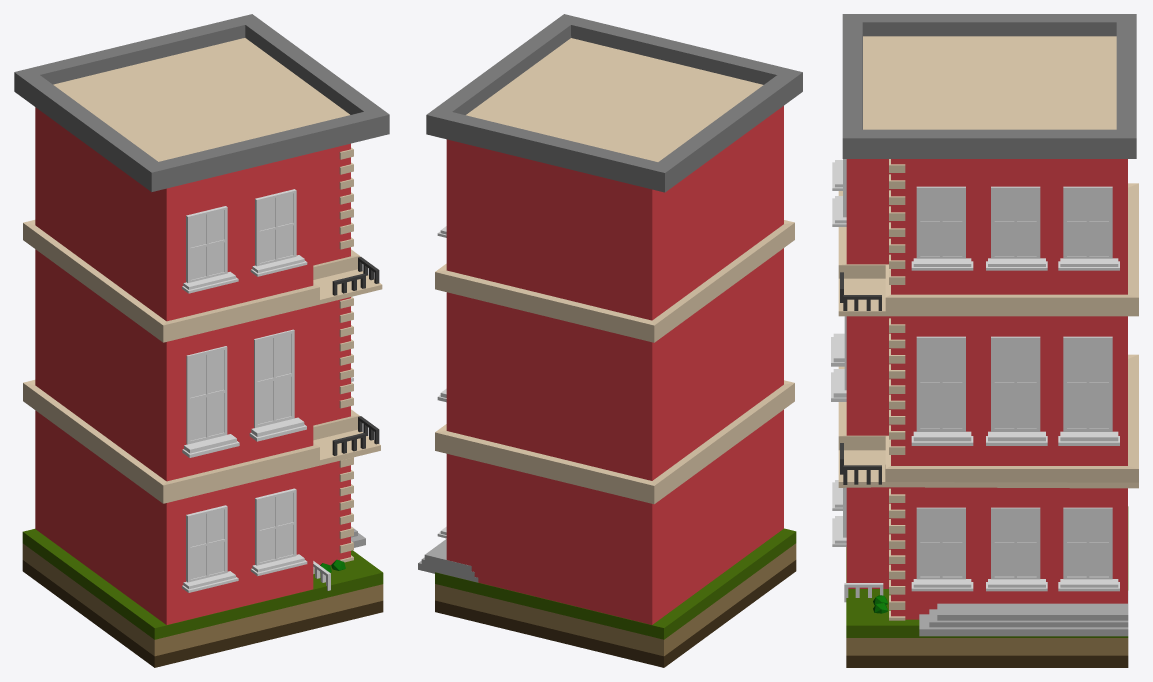
Rendered from apartment.fbx.
3 renders of one model, left to right at view 1: azimuth 30°, elevation 25°; view 2: azimuth 150°, elevation 25°; view 3: azimuth 270°, elevation 25°, orthographic. The views are drawn at different scales.
Parts seen in each view (by area): view 1: apartment, house ground.001, window asset.014, window asset.011, window asset.013, window asset.009, window asset.012, window asset.010, Cube.053, Cube.054, Cube.052, Cube.063 (+5 smaller); view 2: apartment, house ground.001, Cube.048; view 3: apartment, house ground.001, Cube.048, window asset.005, window asset.003, window asset.004, window asset.002, window asset.008, window asset, window asset.001, window asset.006, window asset.007 (+15 smaller).
Boxes of the visible parts, box(x1,y1,x2,y2) form: apartment: box(14, 14, 389, 624); house ground.001: box(22, 529, 383, 667); window asset.014: box(186, 346, 227, 444); window asset.011: box(254, 329, 294, 427); window asset.013: box(186, 505, 227, 582); window asset.009: box(255, 189, 296, 266); window asset.012: box(255, 488, 296, 565); window asset.010: box(186, 206, 227, 282); Cube.053: box(339, 297, 353, 408); Cube.054: box(339, 457, 353, 562); Cube.052: box(339, 147, 353, 249); Cube.063: box(249, 417, 306, 441); apartment: box(426, 14, 802, 624); house ground.001: box(435, 528, 796, 667); Cube.048: box(418, 539, 478, 582); apartment: box(838, 14, 1138, 619); house ground.001: box(846, 506, 1128, 667); Cube.048: box(919, 591, 1128, 636); window asset.005: box(1063, 336, 1112, 431); window asset.003: box(916, 336, 965, 431); window asset.004: box(991, 336, 1040, 431); window asset.002: box(1063, 186, 1112, 258); window asset.008: box(1063, 507, 1112, 579); window asset: box(916, 186, 965, 258); window asset.001: box(991, 186, 1040, 258); window asset.006: box(916, 507, 965, 579); window asset.007: box(991, 507, 1040, 579).
Size of the model in its own units: 228 by 434 by 227.
